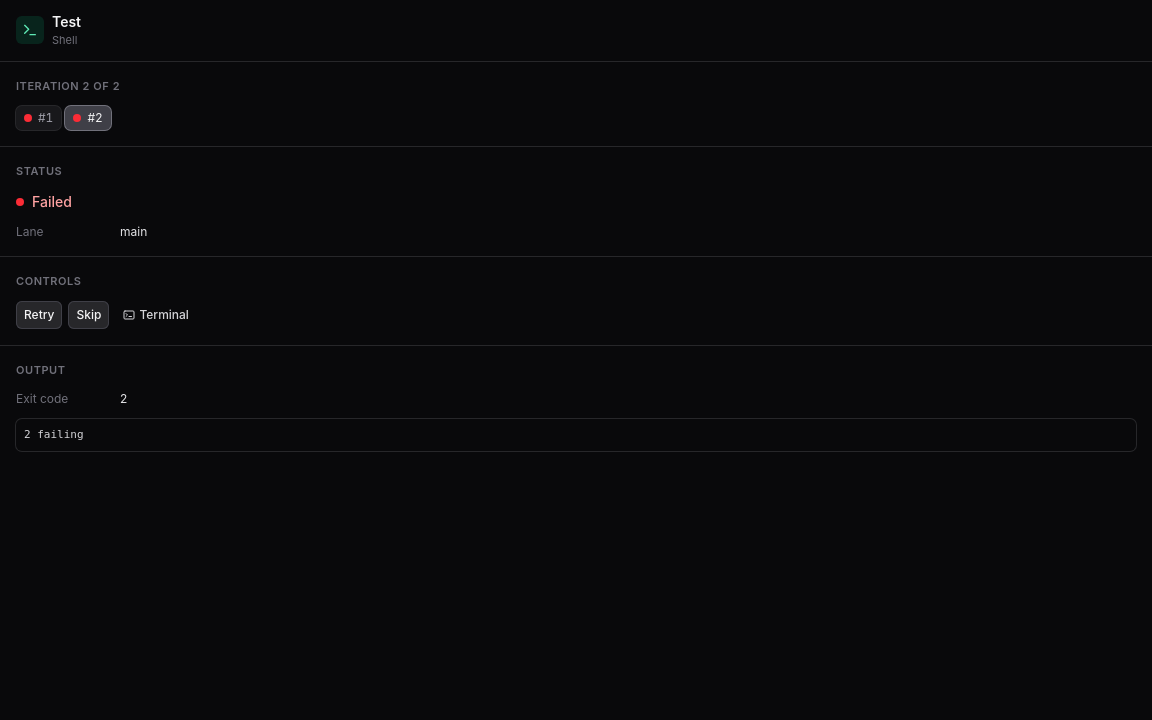
Test: inspector (phase 2) › browses previous loop iterations of a node; older ones are read-only
The image size is (1152, 720).
expect the heading "Iteration 2 of 2" is shown: met, box [16,78,120,94]
expect the text "2 failing" is shown: met, box [16,418,1136,451]
Click the tab "#1" at (39, 118), box [16,106,61,130]
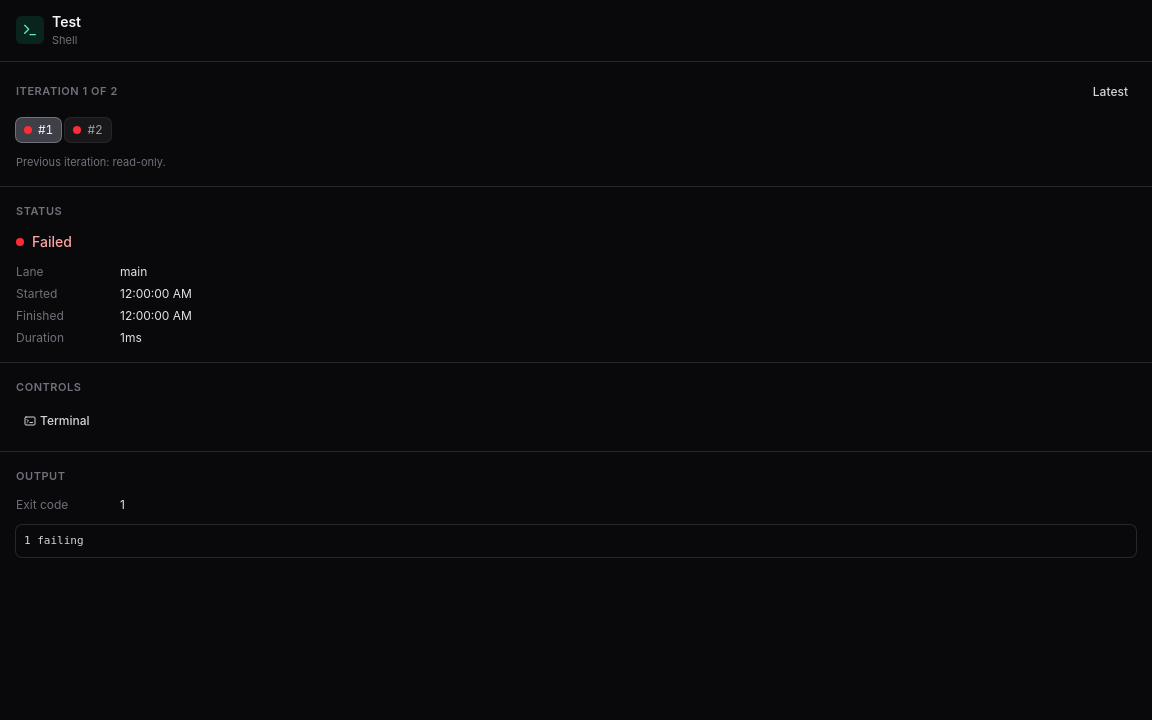
expect the heading "Iteration 1 of 2" is shown: met, box [16,83,118,100]
expect the text "1 failing" is shown: met, box [16,524,1136,557]
expect the button "Retry" is gone: met
Click the button "Latest" at (1110, 92), box [1085,78,1136,106]
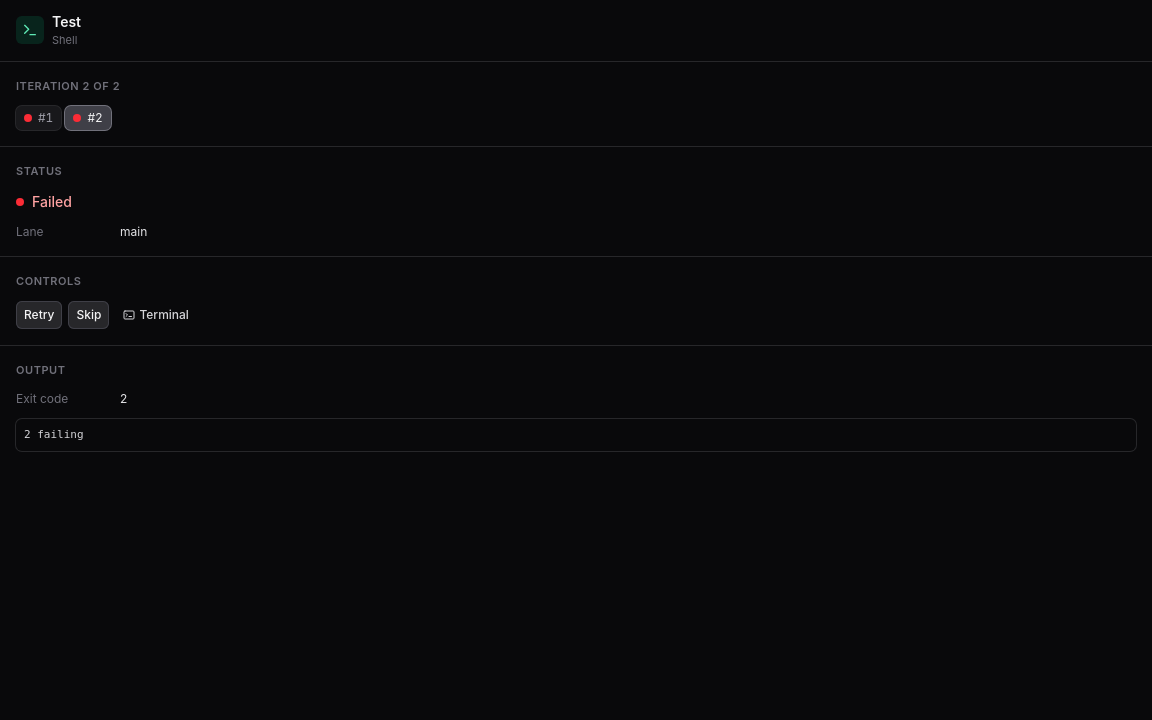
expect the text "2 failing" is shown: met, box [16,418,1136,451]
